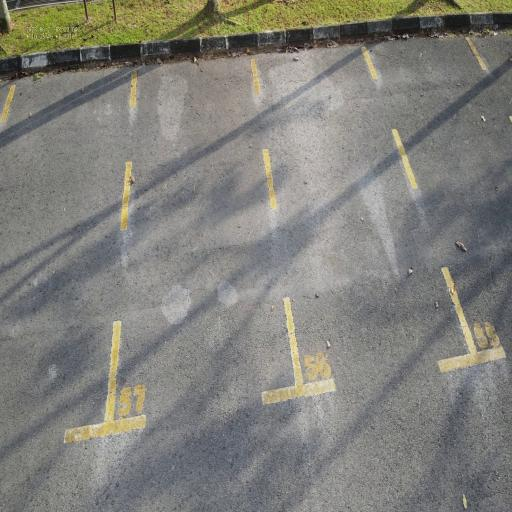Empty: (248, 42, 484, 404), (99, 41, 309, 441)
